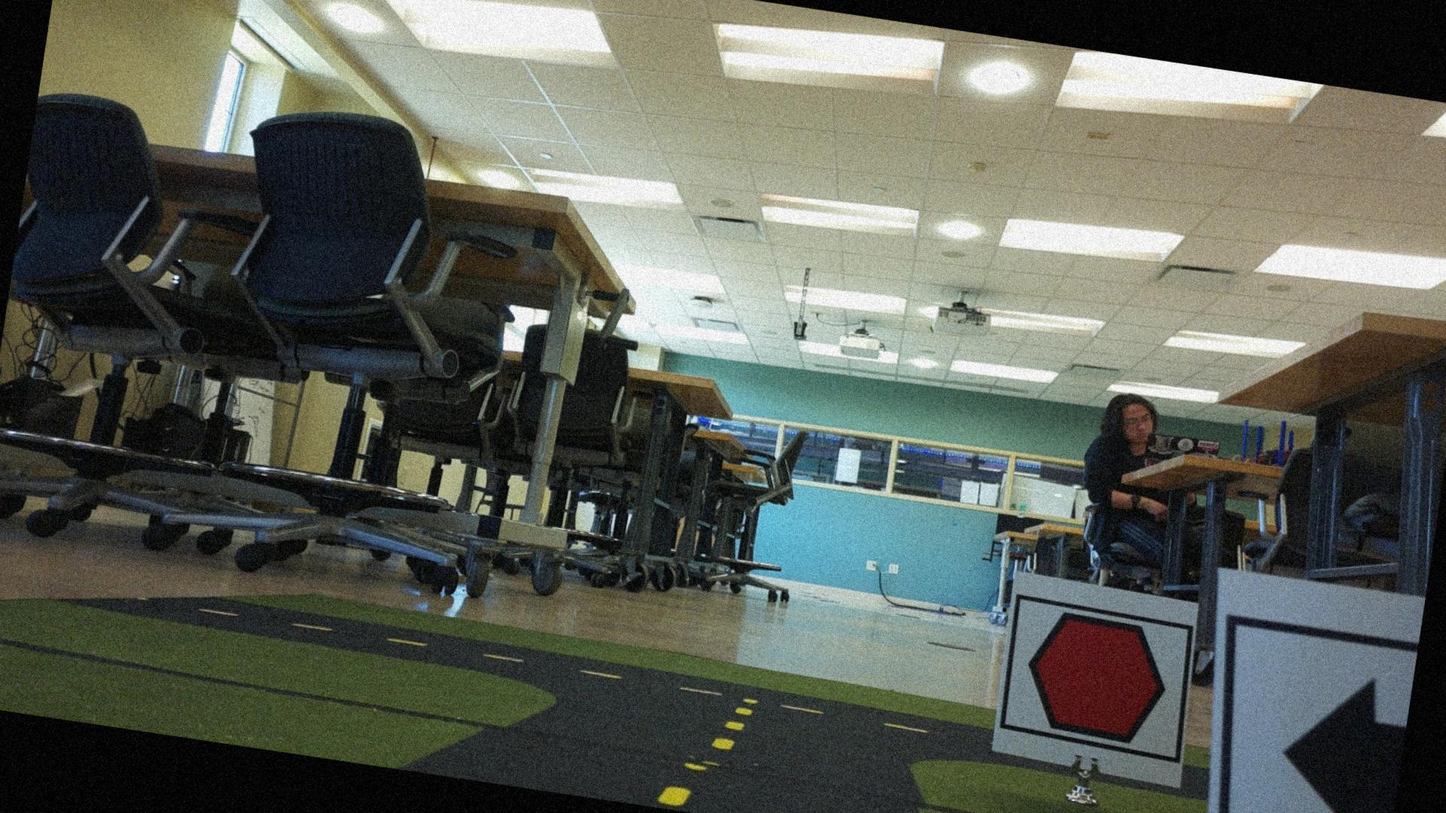stop: (1003, 603, 1188, 755)
yellowline: (713, 701, 751, 755)
